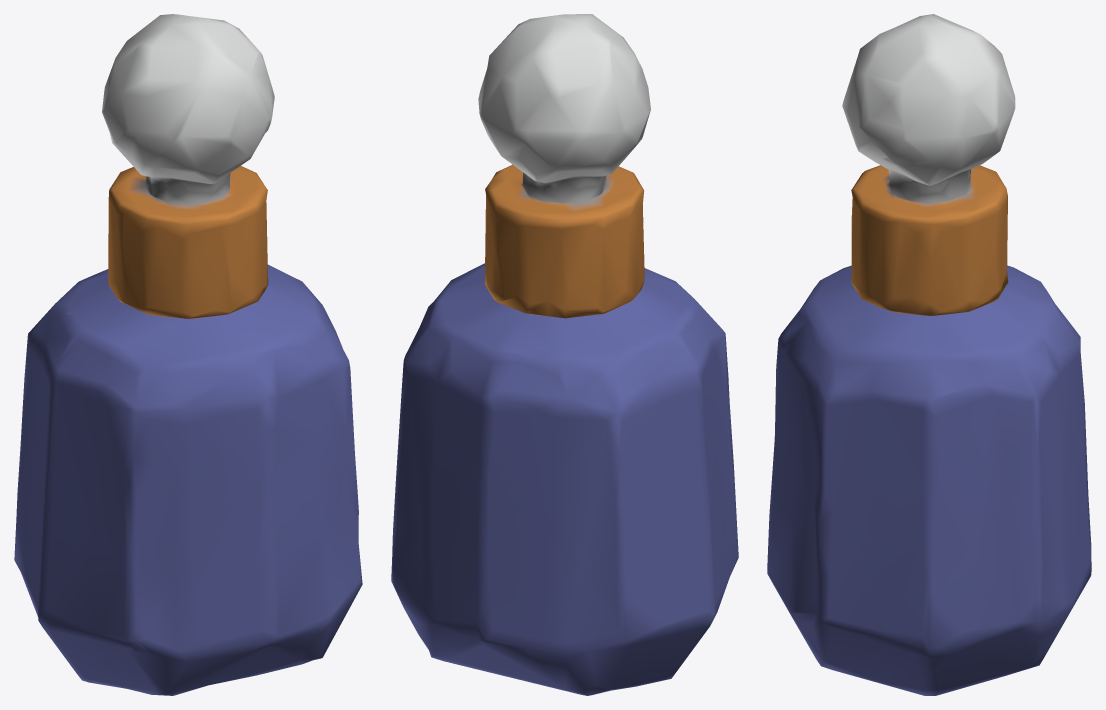
File: gen3d-perfume-bottle-lod0.glb
The picture shows the model from 3 angles, left to right: view 1: azimuth 30°, elevation 25°; view 2: azimuth 150°, elevation 25°; view 3: azimuth 270°, elevation 25°; orthographic projection.
Visible parts, largest first — view 1: part_0; view 2: part_0; view 3: part_0.
Boxes of the visible parts, x1=… form: part_0: x1=14, y1=14, x2=362, y2=695; part_0: x1=391, y1=14, x2=738, y2=695; part_0: x1=767, y1=14, x2=1091, y2=695.
Size of the model in its own units: 0.492 by 0.9993 by 0.4705.
